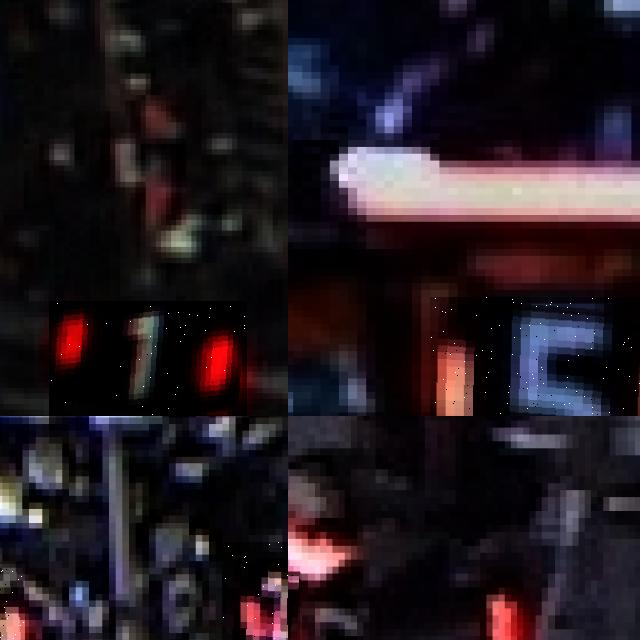R1: (49, 301, 247, 416)
R2: (222, 541, 288, 640)
R5: (430, 296, 640, 416)
